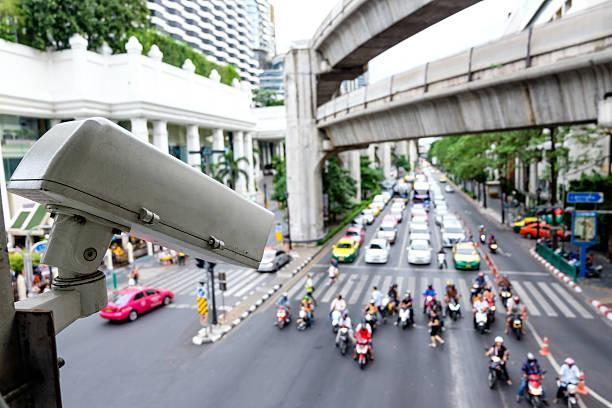camera: (0, 100, 294, 303)
